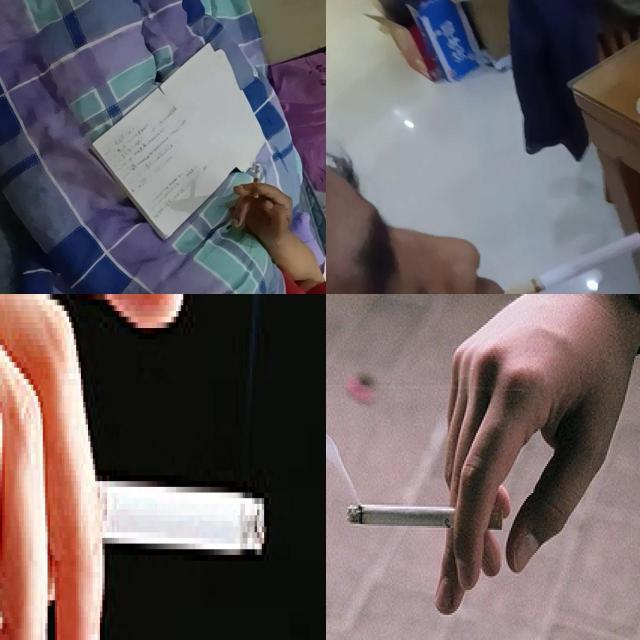cigarette: (41, 472, 265, 556), (504, 232, 640, 294), (346, 503, 504, 531), (253, 165, 261, 198)
